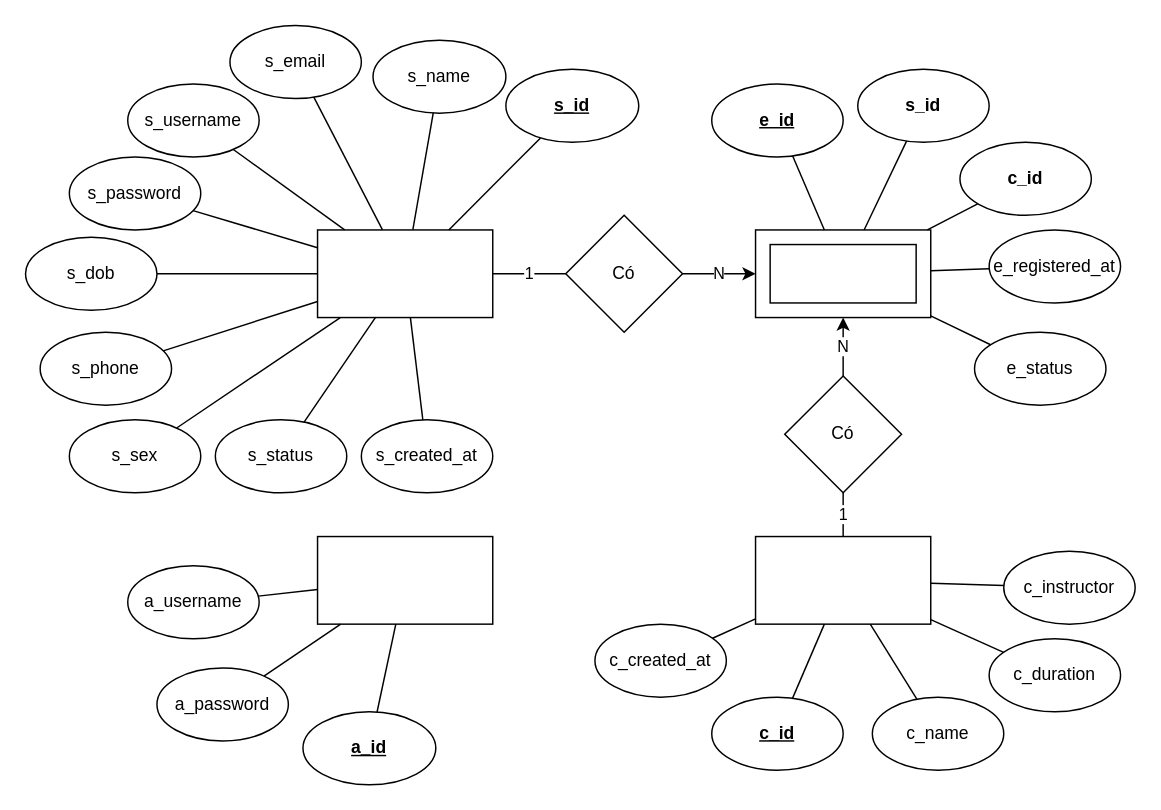
This 1161x810 diagram has some shape labels left out. The box of each missing label's shape, as (x1, y1, x2, y2) in pixels:
Admin: (316, 535, 493, 624)
Course: (754, 535, 931, 624)
Enrollment: (769, 243, 916, 303)
Student: (316, 228, 493, 318)
